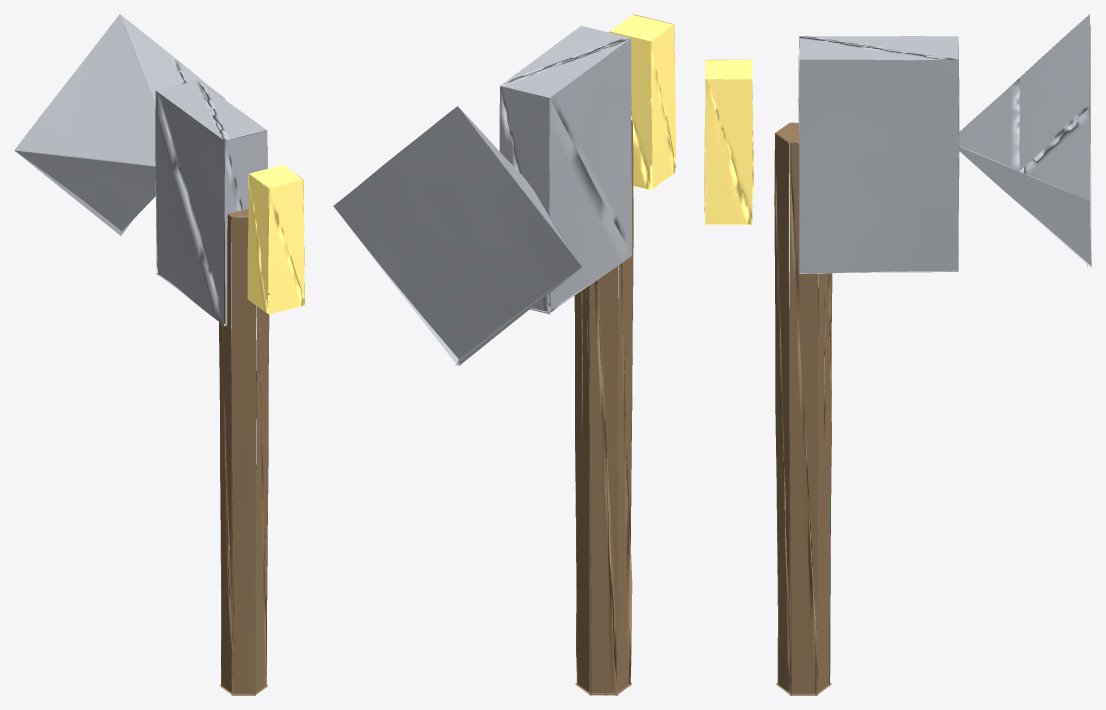
Rendered from axe.glb.
3 views of the same model, side by side, from view 1: azimuth 30°, elevation 25°; view 2: azimuth 150°, elevation 25°; view 3: azimuth 270°, elevation 25° (orthographic). The views are drawn at different scales.
Visible parts, largest first — view 1: AxeHandle; view 2: AxeHandle; view 3: AxeHandle.
Part boxes in pixels (x1,y1,x2,y2): AxeHandle: [14, 14, 304, 695]; AxeHandle: [333, 14, 675, 695]; AxeHandle: [704, 14, 1091, 695].
Size of the model in its own units: 0.6 by 1.59 by 0.8258.
